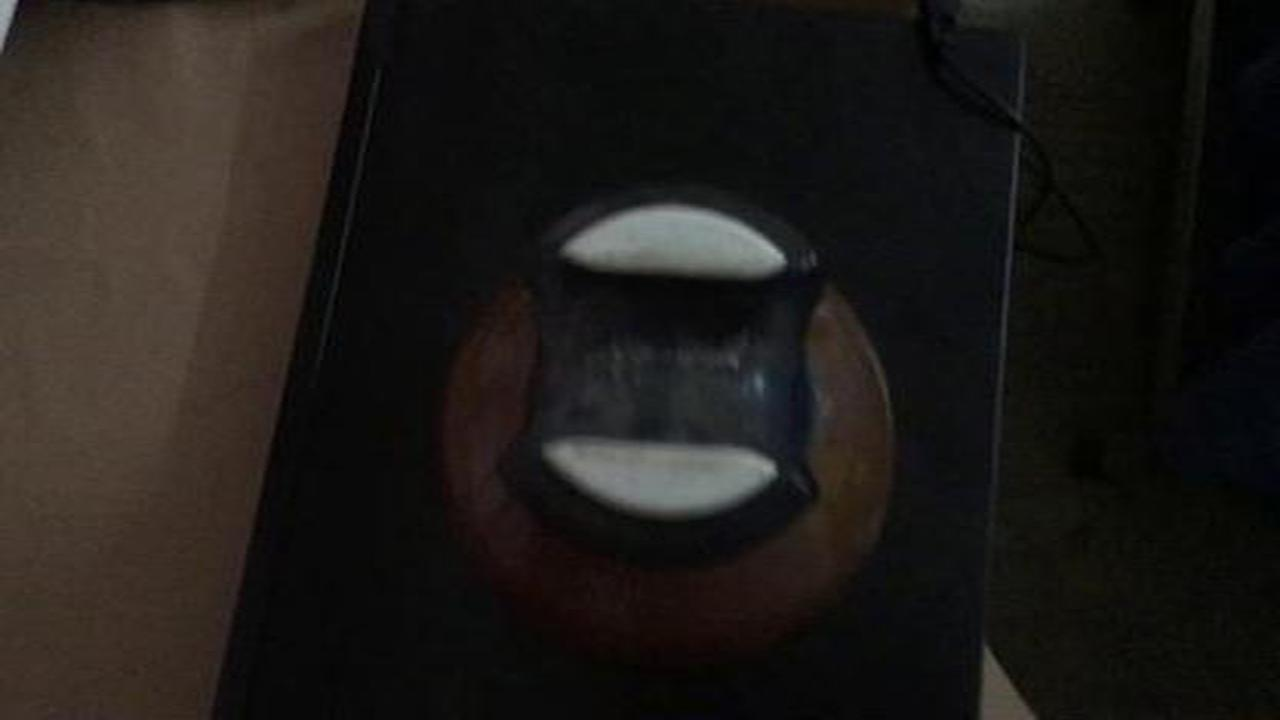insulator_pin: (394, 172, 945, 682)
